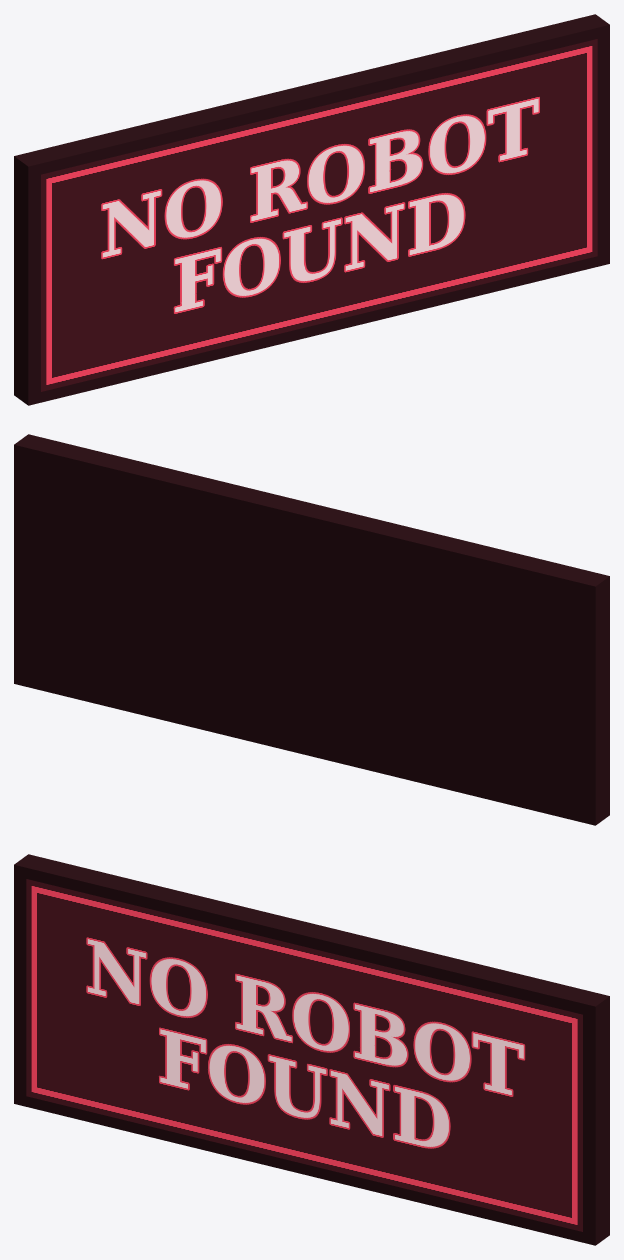
File: neon_no_robot.glb
3 renders of one model, top to bottom at view 1: azimuth 30°, elevation 25°; view 2: azimuth 150°, elevation 25°; view 3: azimuth 330°, elevation 25°, orthographic.
Visible parts, largest first — view 1: neon_no_robot; view 2: neon_no_robot; view 3: neon_no_robot.
Part boxes in pixels (x1,y1,x2,y2): neon_no_robot: (14, 14, 609, 405); neon_no_robot: (14, 434, 609, 825); neon_no_robot: (14, 854, 609, 1245).
Bounding box in the file's own units: 1.4 × 0.55 × 0.061.
Materials: 2 (1 with a texture image).
